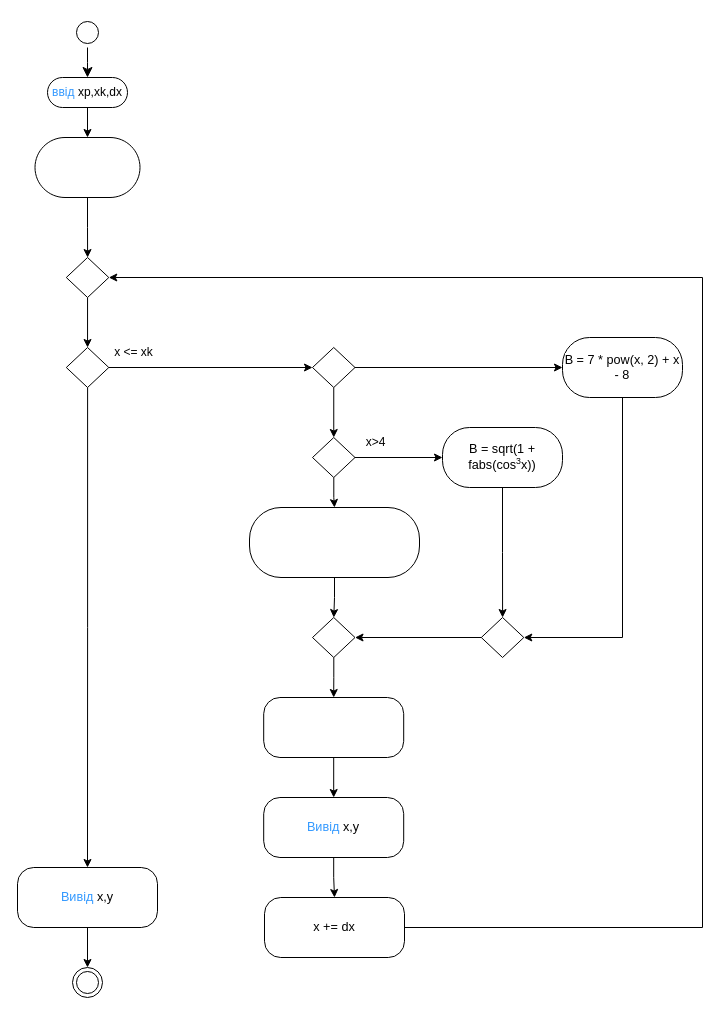
The diagram is 728 pixels wide and 1015 high, and some of its shapes have lost their labels. Each missing label, with the centre of its shape:
"B = (1.0 / cos(x)) * ((x + 4) / sqrt(11)) + 3" goes at [334,542].
"x = xp" goes at [87,167].
"y = (1 / fabs(x + 2)) - B;" goes at [333,727].
